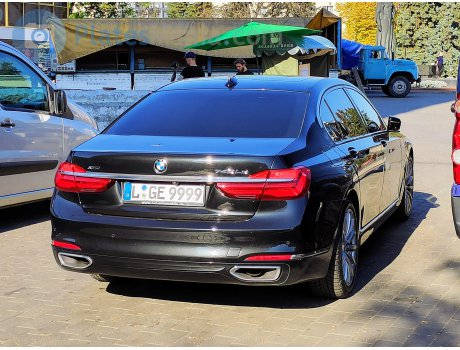License Plates: (128, 181, 205, 200)
